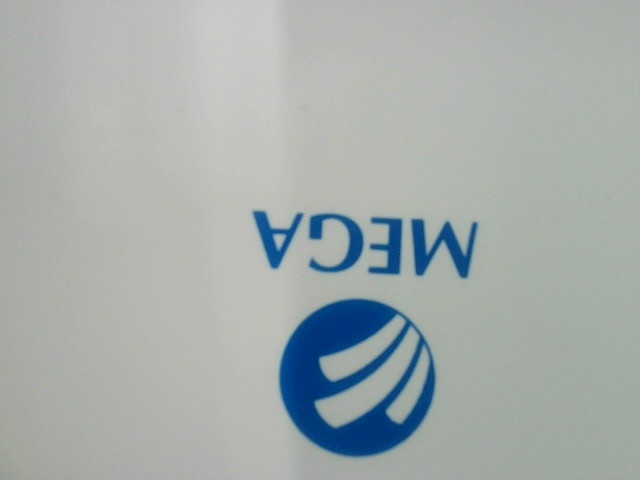AM_ZTEMEGA: (229, 200, 505, 465)
